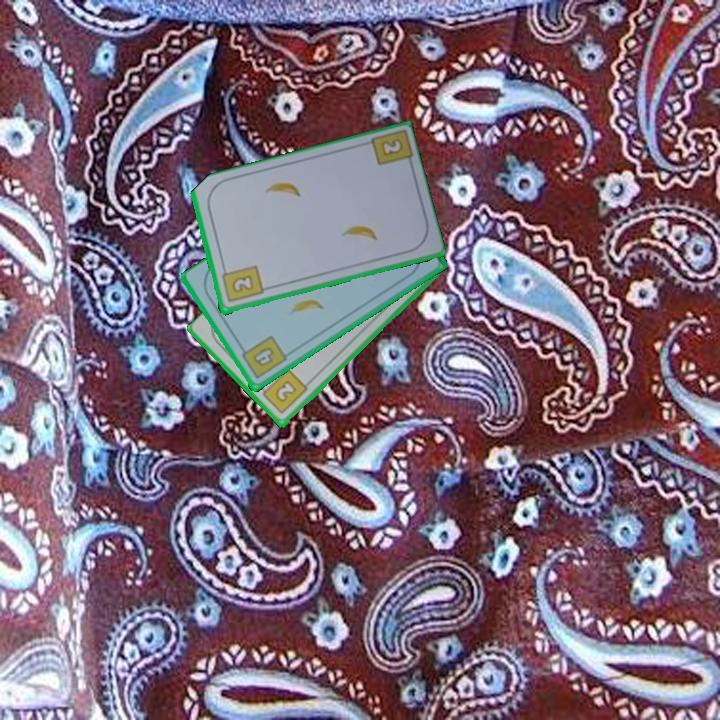2b: (256, 366, 311, 417), (218, 262, 266, 305), (377, 135, 406, 159)
4b: (236, 333, 289, 383)
